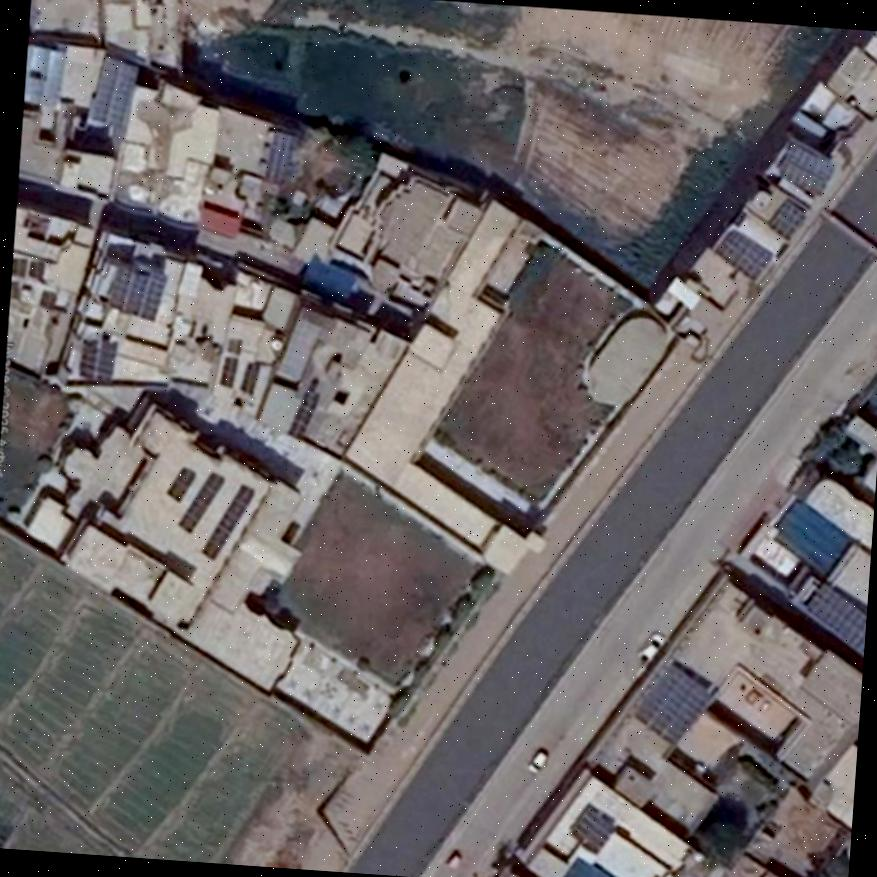Solarpanel: (634, 665, 709, 746), (805, 582, 866, 653), (202, 484, 252, 559), (87, 56, 136, 126), (108, 268, 165, 319), (712, 228, 771, 277), (783, 142, 835, 195), (180, 472, 223, 533), (569, 808, 613, 853), (262, 130, 294, 182), (286, 391, 320, 438), (769, 197, 806, 238), (79, 339, 116, 379), (167, 466, 190, 502), (240, 365, 258, 394), (220, 358, 240, 384)
